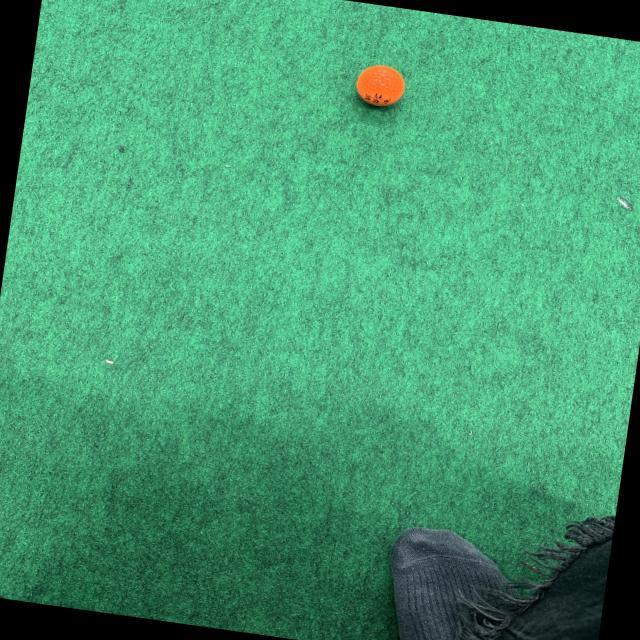ball: (352, 61, 409, 112)
